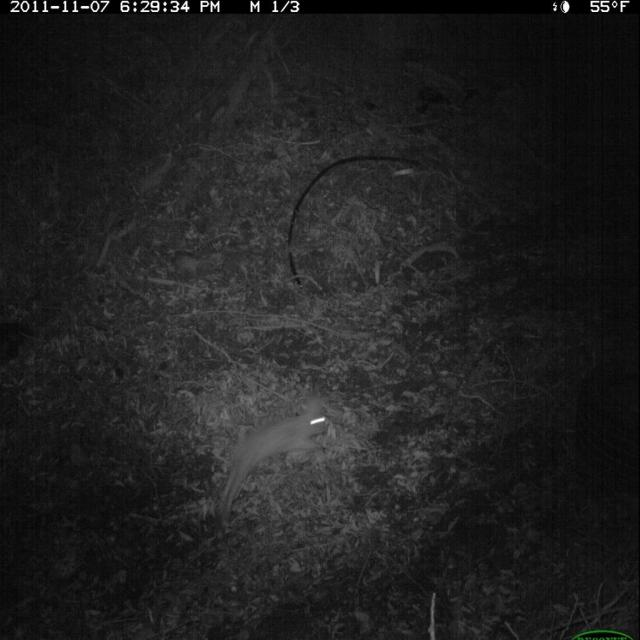rabbit: (215, 395, 334, 525)
